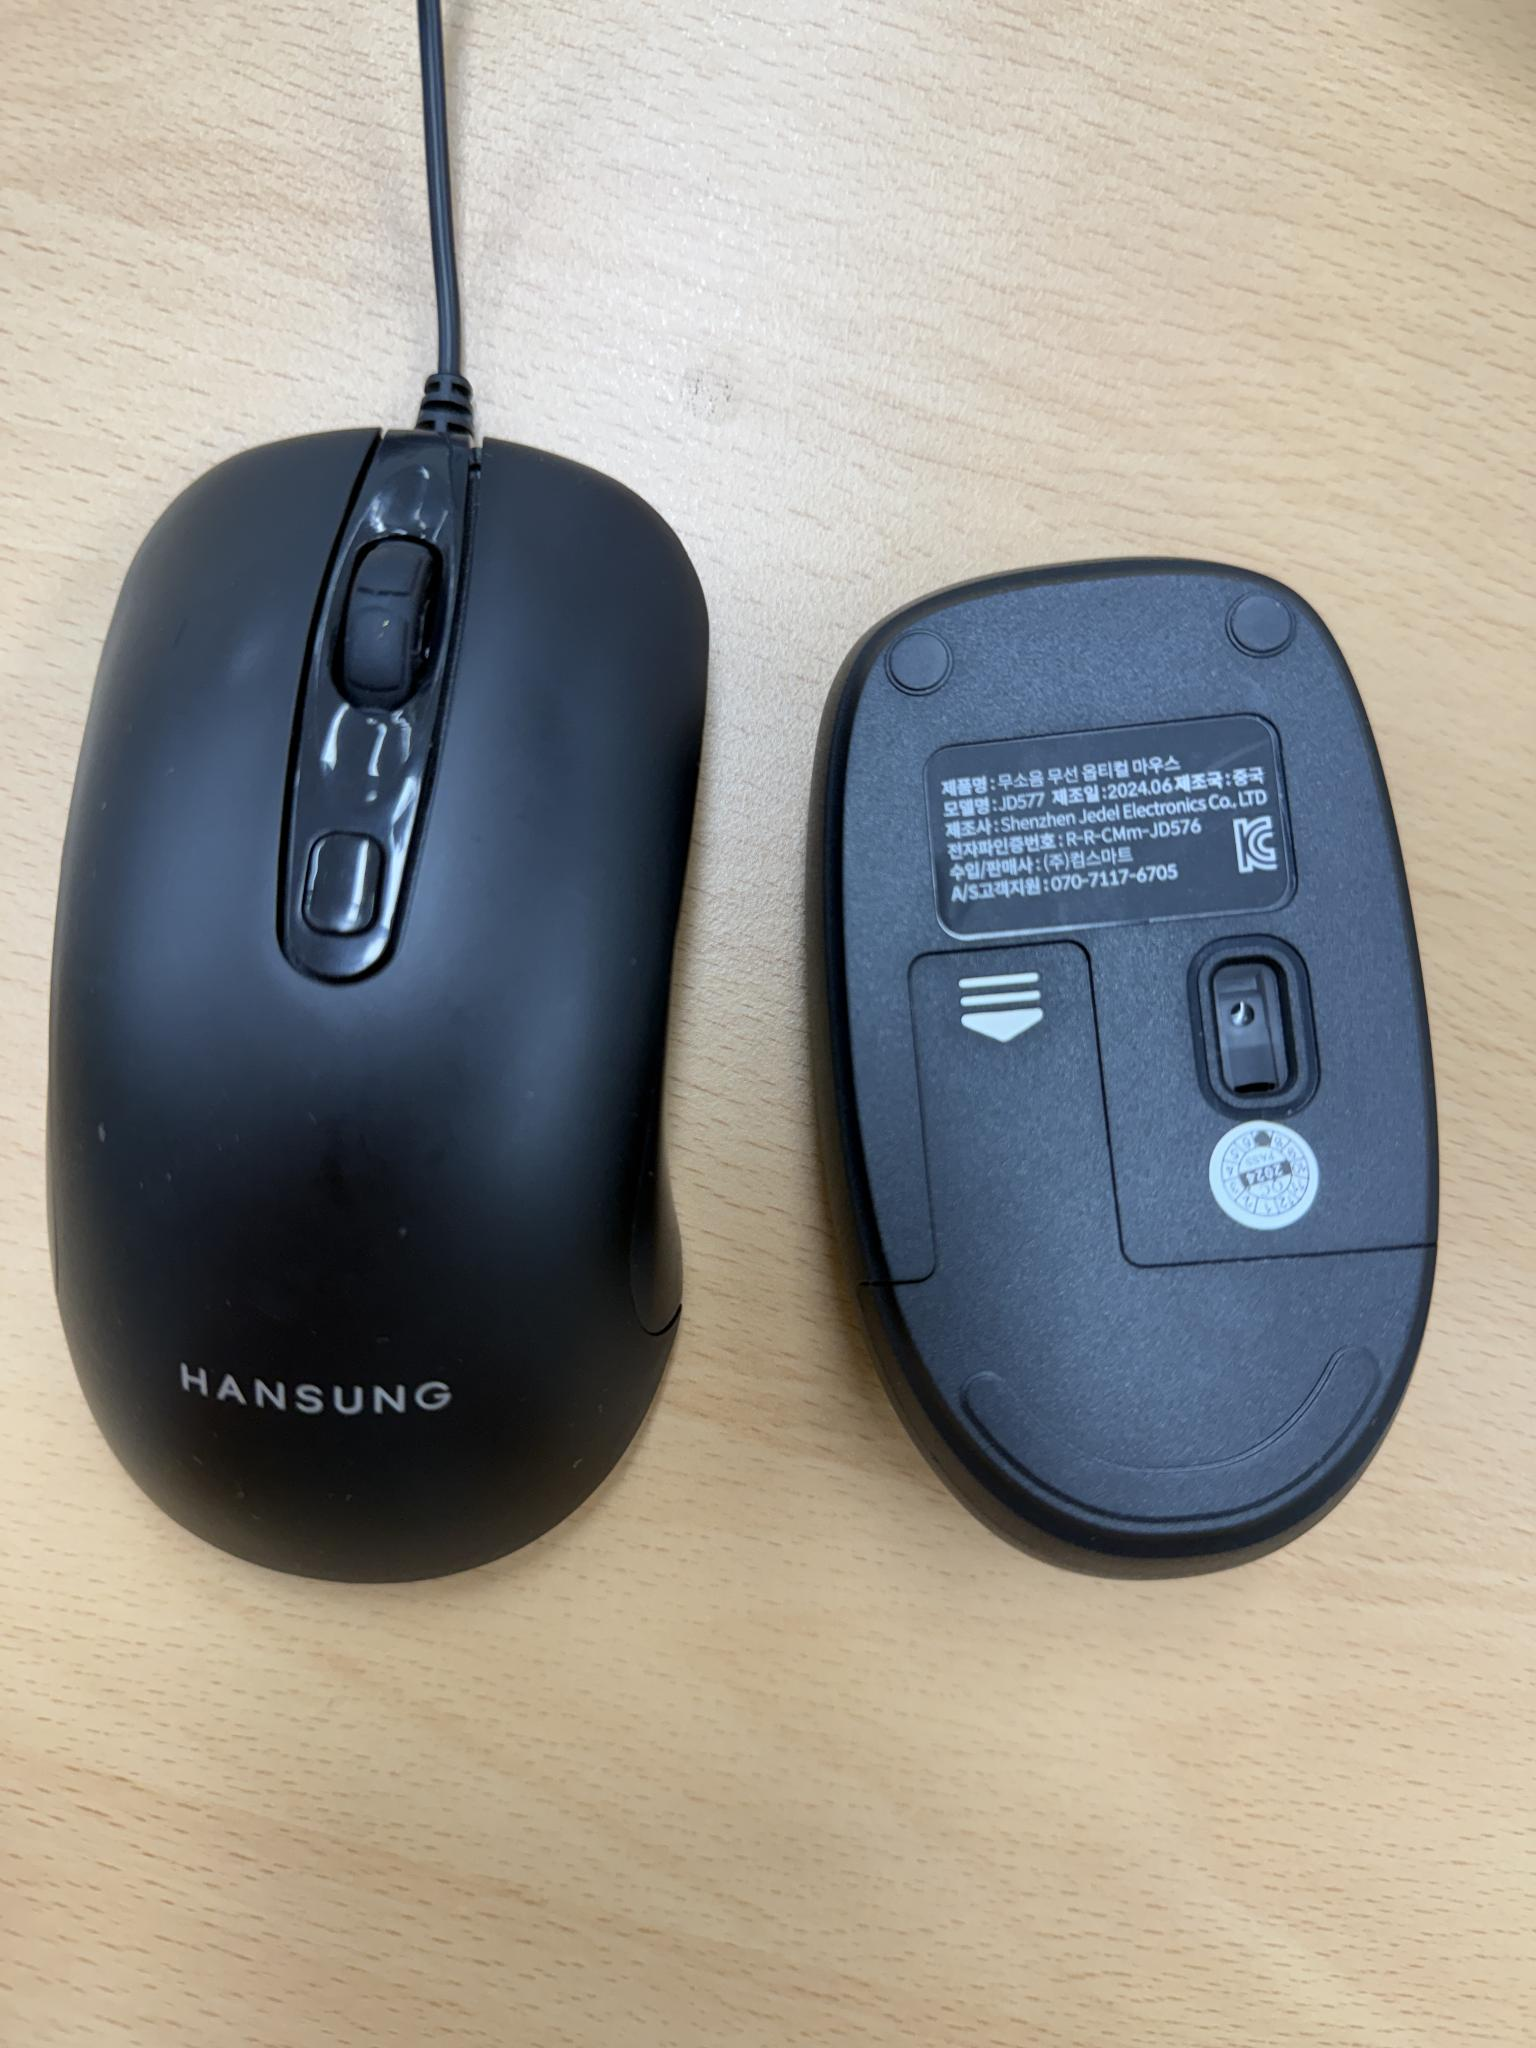back: (800, 552, 1447, 1587)
front: (44, 421, 713, 1587)
